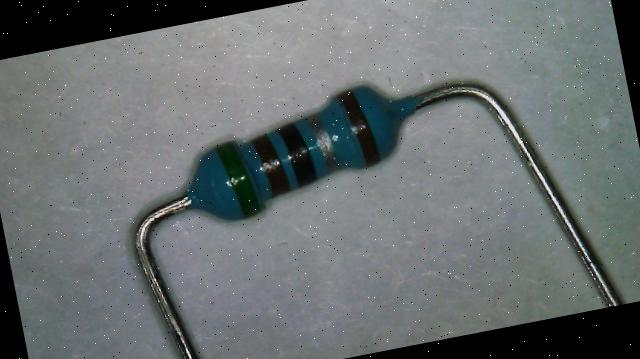black: (276, 119, 318, 188)
brown: (336, 86, 382, 168), (250, 130, 290, 196)
green: (216, 138, 262, 219)
resistor: (163, 45, 436, 246)
silver: (307, 110, 340, 172)
